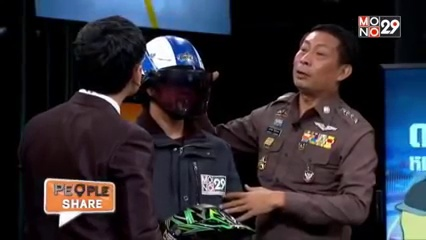helmet: (146, 31, 221, 116)
